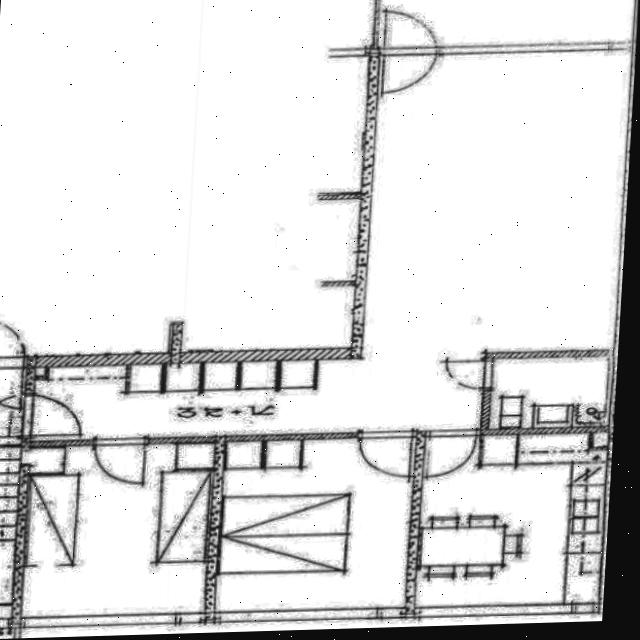room: (210, 438, 419, 612), (16, 443, 218, 618), (411, 433, 611, 607), (486, 355, 614, 430)
